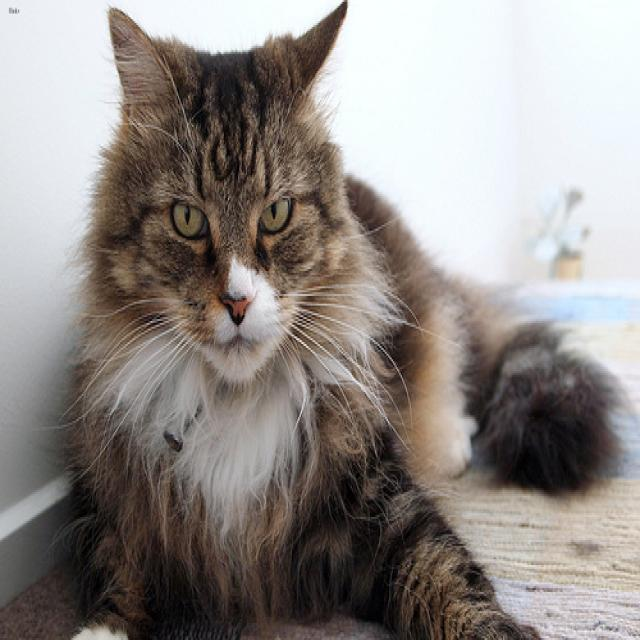Maine_Coon: (92, 0, 354, 381)
